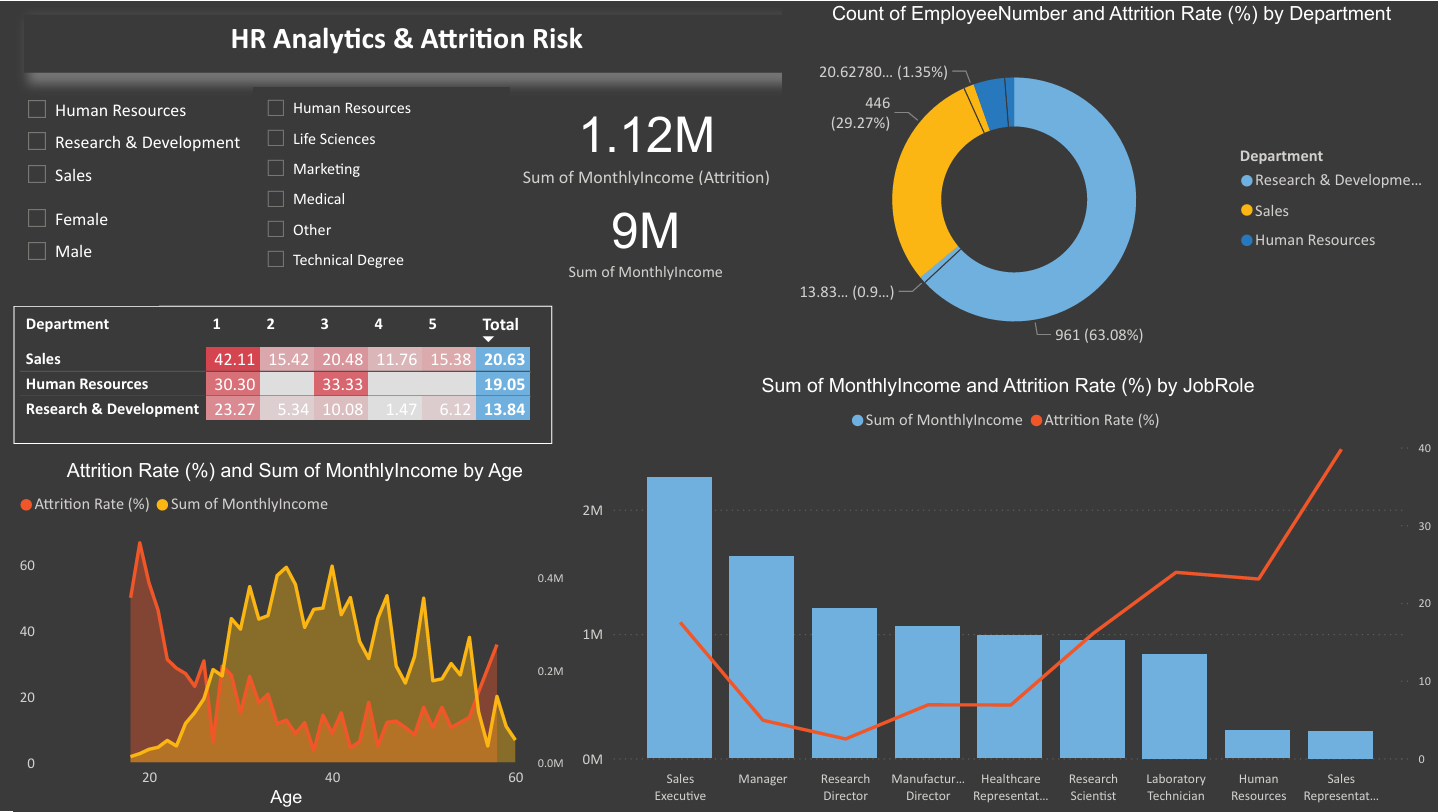

Layout of this report page (visuals, bound fields, positions):
{"tool":"powerbi","page":{"name":"Page 1","canvas":[1280,720],"ordinal":0},"visuals":[{"type":"pivotTable","fields":{"Rows":["HR database1.Department"],"Values":["HR database1.Attrition Rate (%)"],"Columns":["HR database1.JobLevel"]},"box":[12.5,270.5,478.5,122.1],"z":0},{"type":"card","fields":{"Values":["Sum(HR database1.Total Monthly Income (Attrition))"]},"box":[452.8,83.4,242.9,83.4],"z":1000},{"type":"slicer","fields":{"Values":["HR database1.Department"]},"box":[12.3,76.1,212.3,96.9],"z":2000},{"type":"lineChart","fields":{"Y":["HR database1.Attrition Rate (%)"],"Category":["HR database1.Age"],"Y2":["Sum(HR database1.MonthlyIncome)"]},"box":[12.5,406.4,499.4,313.5],"z":3000},{"type":"textbox","box":[20.9,11,674.9,51.5],"z":4000},{"type":"donutChart","fields":{"Y":["Count(HR database1.EmployeeNumber)","HR database1.Attrition Rate (%)"],"Category":["HR database1.Department"]},"box":[695.7,0,584.1,331.3],"z":5000},{"type":"card","fields":{"Values":["Sum(HR database1.MonthlyIncome)"]},"box":[499.4,164.4,149.7,90.8],"z":6000},{"type":"slicer","fields":{"Values":["HR database1.Gender"]},"box":[12.3,173,128.8,96.9],"z":7000},{"type":"lineClusteredColumnComboChart","fields":{"Category":["HR database1.JobRole"],"Y":["Sum(HR database1.MonthlyIncome)"],"Y2":["HR database1.Attrition Rate (%)"]},"box":[511.7,331.3,768.1,389],"z":8000},{"type":"slicer","fields":{"Values":["HR database1.EducationField"]},"box":[224.5,76.1,228.2,179.1],"z":9000}]}

Visuals, with their boxes in screenshot pixels (x1, y1, x2, y2), scaled from the page's 1280x720 canvas onto the 1438x812 screenshot:
pivotTable - HR database1.Department x HR database1.Attrition Rate (%): bbox=[14, 305, 552, 443]
card - Sum(HR database1.Total Monthly Income (Attrition)): bbox=[509, 94, 782, 188]
slicer - HR database1.Department: bbox=[14, 86, 252, 195]
lineChart - HR database1.Attrition Rate (%) x HR database1.Age: bbox=[14, 458, 575, 811]
textbox: bbox=[23, 12, 782, 70]
donutChart - Count(HR database1.EmployeeNumber) x HR database1.Attrition Rate (%): bbox=[782, 0, 1437, 374]
card - Sum(HR database1.MonthlyIncome): bbox=[561, 185, 729, 288]
slicer - HR database1.Gender: bbox=[14, 195, 159, 304]
lineClusteredColumnComboChart - HR database1.JobRole x Sum(HR database1.MonthlyIncome): bbox=[575, 374, 1437, 811]
slicer - HR database1.EducationField: bbox=[252, 86, 509, 288]
